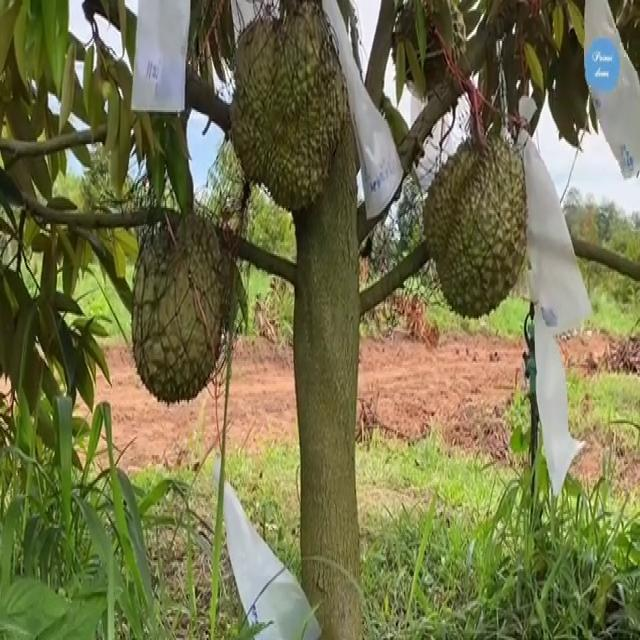durian: (222, 4, 354, 211), (129, 204, 235, 417), (419, 131, 531, 323)
